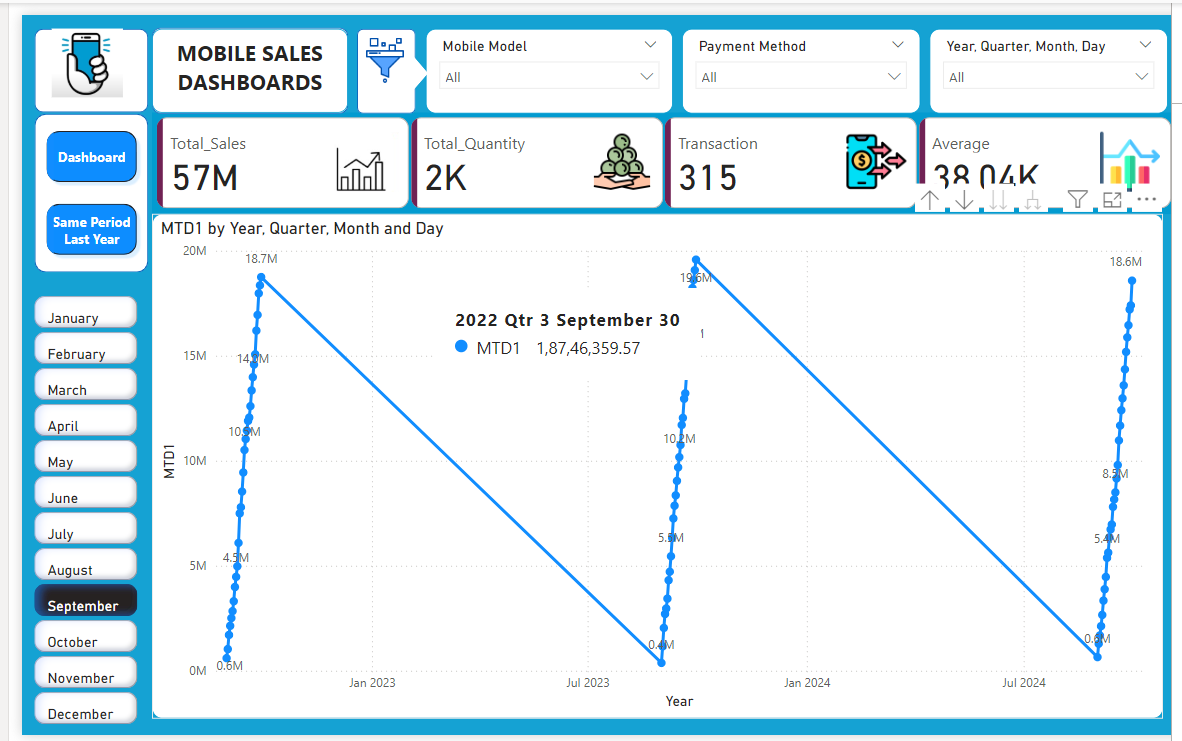

Layout of this report page (visuals, bound fields, positions):
{"tool":"powerbi","page":{"name":"MIT Reoprt","canvas":[1280,720],"ordinal":2},"visuals":[{"type":"shape","box":[12.5,13.8,113.8,83.8],"z":0},{"type":"image","box":[13.8,8.8,102.5,78.8],"z":1000},{"type":"shape","box":[12.5,98.8,113.8,158.8],"z":2000},{"type":"cardVisual","fields":{"Data":["Mobile Sales Data.Total_Sales","Mobile Sales Data.Total_Quantity","Mobile Sales Data.Transaction","Mobile Sales Data.Average"]},"box":[130.4,97.4,1025,101.5],"z":3000},{"type":"slicer","fields":{"Values":["Mobile Sales Data.Mobile Model"]},"box":[403.8,13.8,247.5,85],"z":4000},{"type":"slicer","fields":{"Values":["Mobile Sales Data.Payment Method"]},"box":[660,13.8,238.8,85],"z":5000},{"type":"slicer","fields":{"Values":["Customem Calender.Date.Variation.Date Hierarchy.Year","Customem Calender.Date.Variation.Date Hierarchy.Quarter","Customem Calender.Date.Variation.Date Hierarchy.Month","Customem Calender.Date.Variation.Date Hierarchy.Day"]},"box":[907.5,13.8,238.8,85],"z":6000},{"type":"shape","box":[335,13.8,58.8,85],"z":7000},{"type":"image","box":[335,3.8,56.2,83.8],"z":8000},{"type":"shape","box":[375,40,31.2,36.2],"z":9000},{"type":"shape","box":[130,12.5,196.2,86.2],"z":10000},{"type":"textbox","box":[130,13.8,196.2,83.8],"z":11000},{"type":"lineChart","fields":{"Y":["Mobile Sales Data.MTD1"],"Category":["Customem Calender.Date.Variation.Date Hierarchy.Year","Customem Calender.Date.Variation.Date Hierarchy.Quarter","Customem Calender.Date.Variation.Date Hierarchy.Month","Customem Calender.Date.Variation.Date Hierarchy.Day"]},"box":[130,198.8,1011.2,505],"z":12000},{"type":"advancedSlicerVisual","fields":{"Values":["Customem Calender.Date.Variation.Date Hierarchy.Month"]},"box":[7.5,276.2,113.8,443.8],"z":14001},{"type":"pageNavigator","box":[18.8,110,102.5,137.5],"z":14002}]}

Visuals, with their boxes on the page's 1280x720 design canvas (x1, y1, x2, y2). These are canvas units, not pixel positions in the 1182x741 screenshot, which may show the page scaled, cropped or inside an application window:
shape: {"x1": 12, "y1": 14, "x2": 126, "y2": 98}
image: {"x1": 14, "y1": 9, "x2": 116, "y2": 88}
shape: {"x1": 12, "y1": 99, "x2": 126, "y2": 258}
cardVisual - Mobile Sales Data.Total_Sales x Mobile Sales Data.Total_Quantity: {"x1": 130, "y1": 97, "x2": 1155, "y2": 199}
slicer - Mobile Sales Data.Mobile Model: {"x1": 404, "y1": 14, "x2": 651, "y2": 99}
slicer - Mobile Sales Data.Payment Method: {"x1": 660, "y1": 14, "x2": 899, "y2": 99}
slicer - Customem Calender.Date.Variation.Date Hierarchy.Year x Customem Calender.Date.Variation.Date Hierarchy.Quarter: {"x1": 908, "y1": 14, "x2": 1146, "y2": 99}
shape: {"x1": 335, "y1": 14, "x2": 394, "y2": 99}
image: {"x1": 335, "y1": 4, "x2": 391, "y2": 88}
shape: {"x1": 375, "y1": 40, "x2": 406, "y2": 76}
shape: {"x1": 130, "y1": 12, "x2": 326, "y2": 99}
textbox: {"x1": 130, "y1": 14, "x2": 326, "y2": 98}
lineChart - Mobile Sales Data.MTD1 x Customem Calender.Date.Variation.Date Hierarchy.Year: {"x1": 130, "y1": 199, "x2": 1141, "y2": 704}
advancedSlicerVisual - Customem Calender.Date.Variation.Date Hierarchy.Month: {"x1": 8, "y1": 276, "x2": 121, "y2": 720}
pageNavigator: {"x1": 19, "y1": 110, "x2": 121, "y2": 248}
